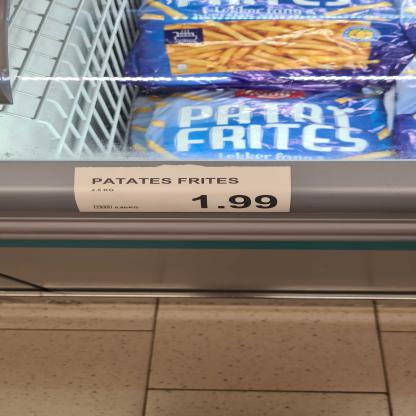prtg: (72, 168, 292, 215)
